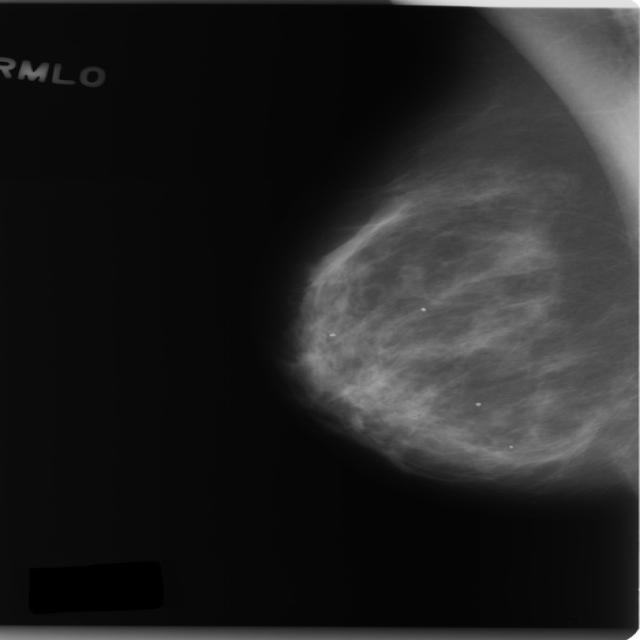tumour: (394, 262, 427, 296)
